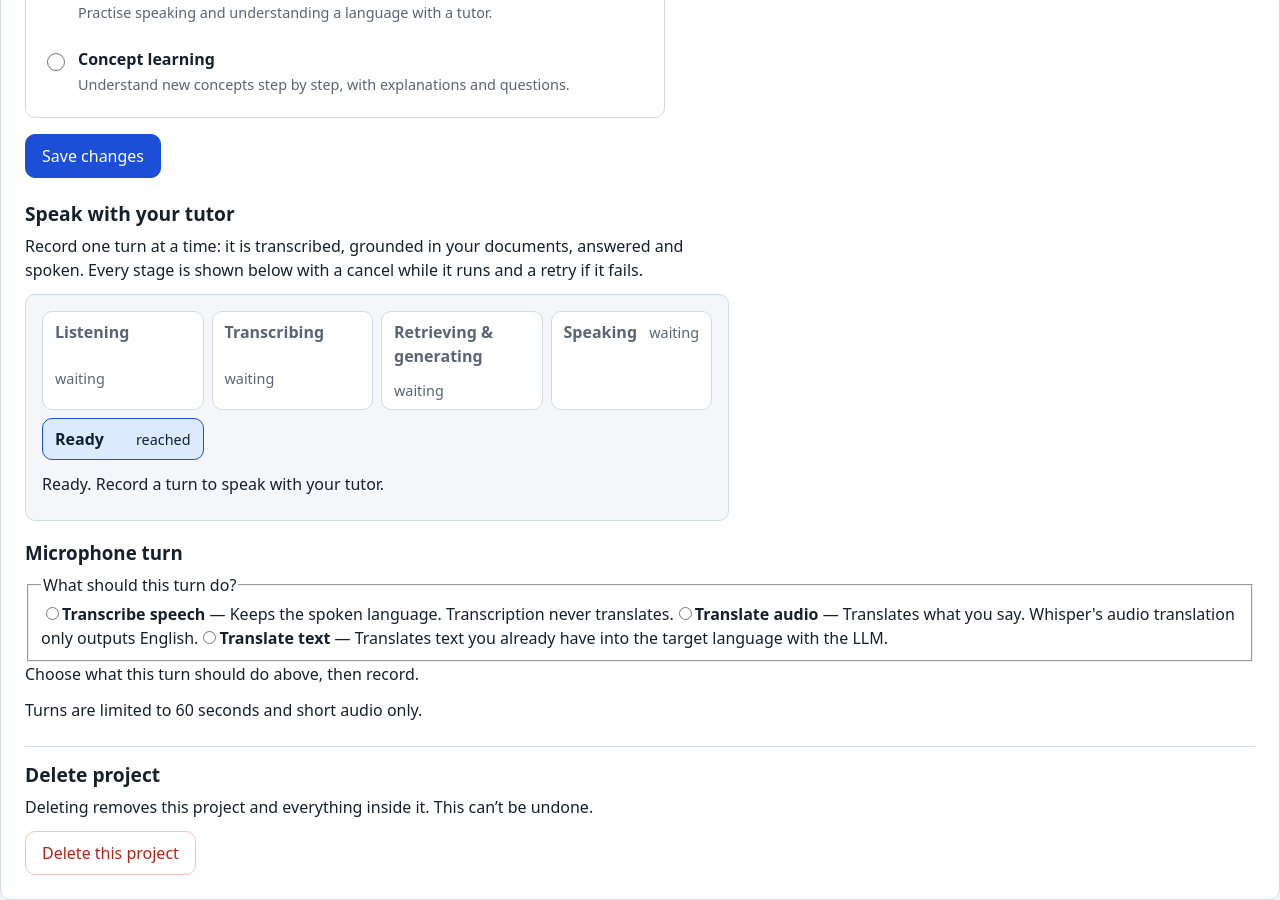
the turn asks for an explicit action before anything can be recorded
This screenshot has width=1280, height=900.
(page scrolled)
Expected: the radio button labelled "Translate audio" is shown, [679,607,692,620]
Expected: the radio button labelled "Translate text" is shown, [203,631,216,644]
Step 1. Click the radio button labelled "Transcribe speech" → (52, 614), box [46,607,59,620]
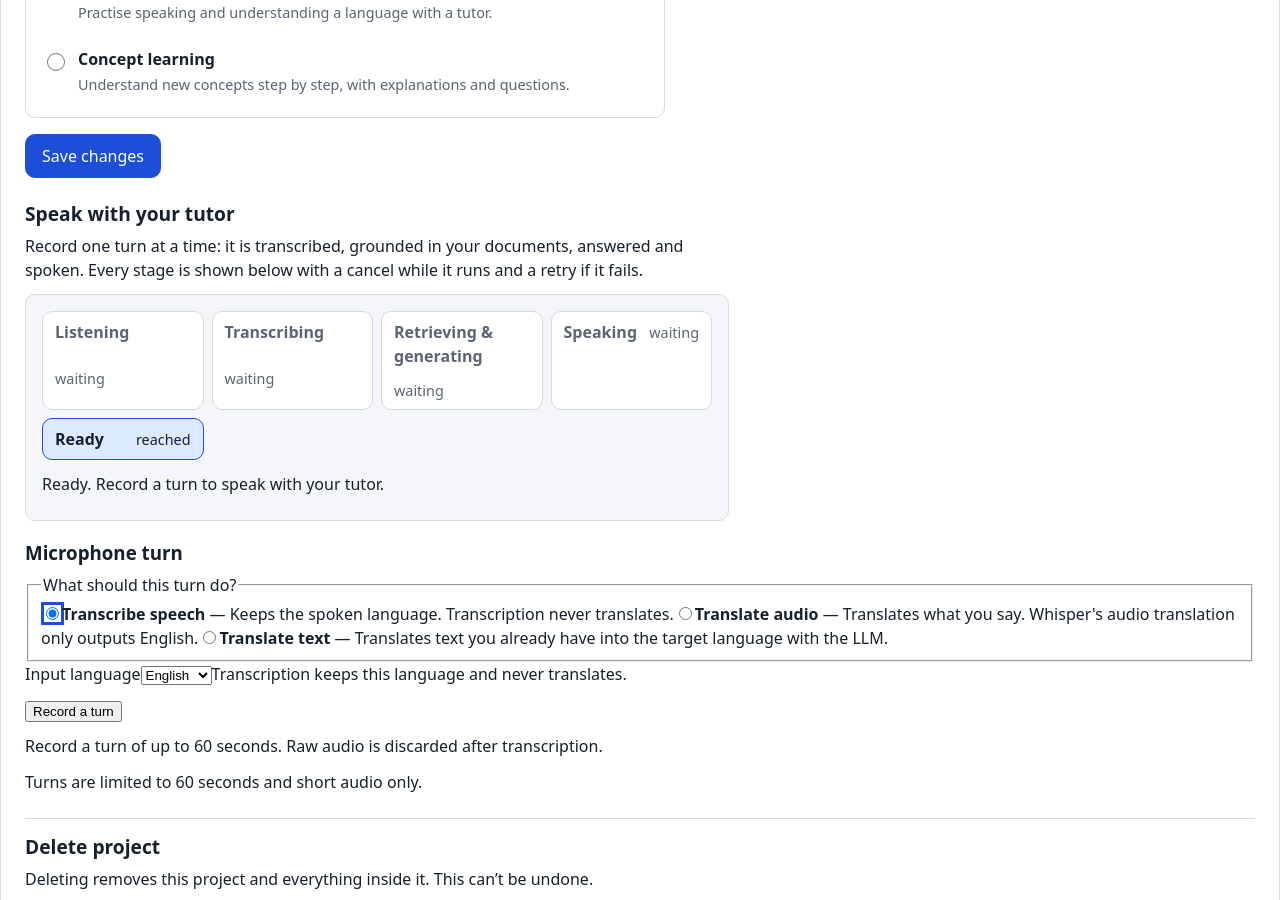
Expected: the button "Record a turn" is shown, [25,701,122,722]
Expected: the dropdown labelled "Input language" is shown, [140,666,212,685]
